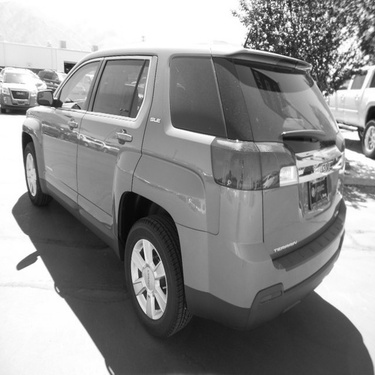car: (15, 35, 351, 348), (307, 46, 372, 164), (1, 53, 51, 122), (31, 61, 85, 108)
